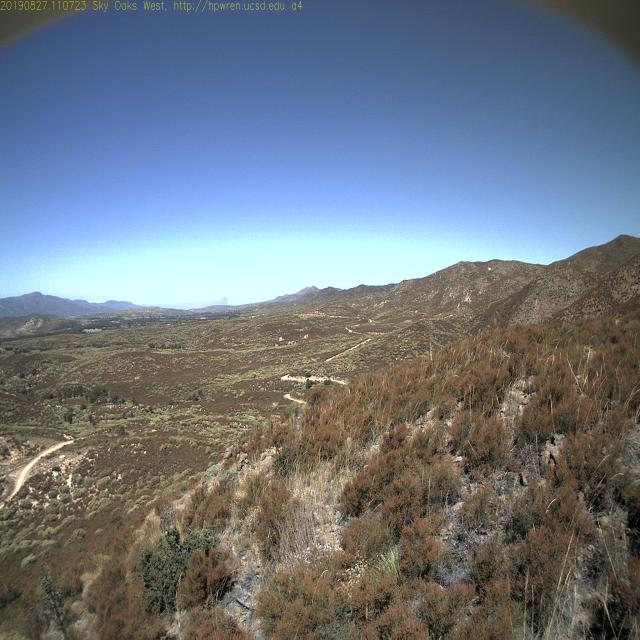smoke: (217, 290, 231, 309)
